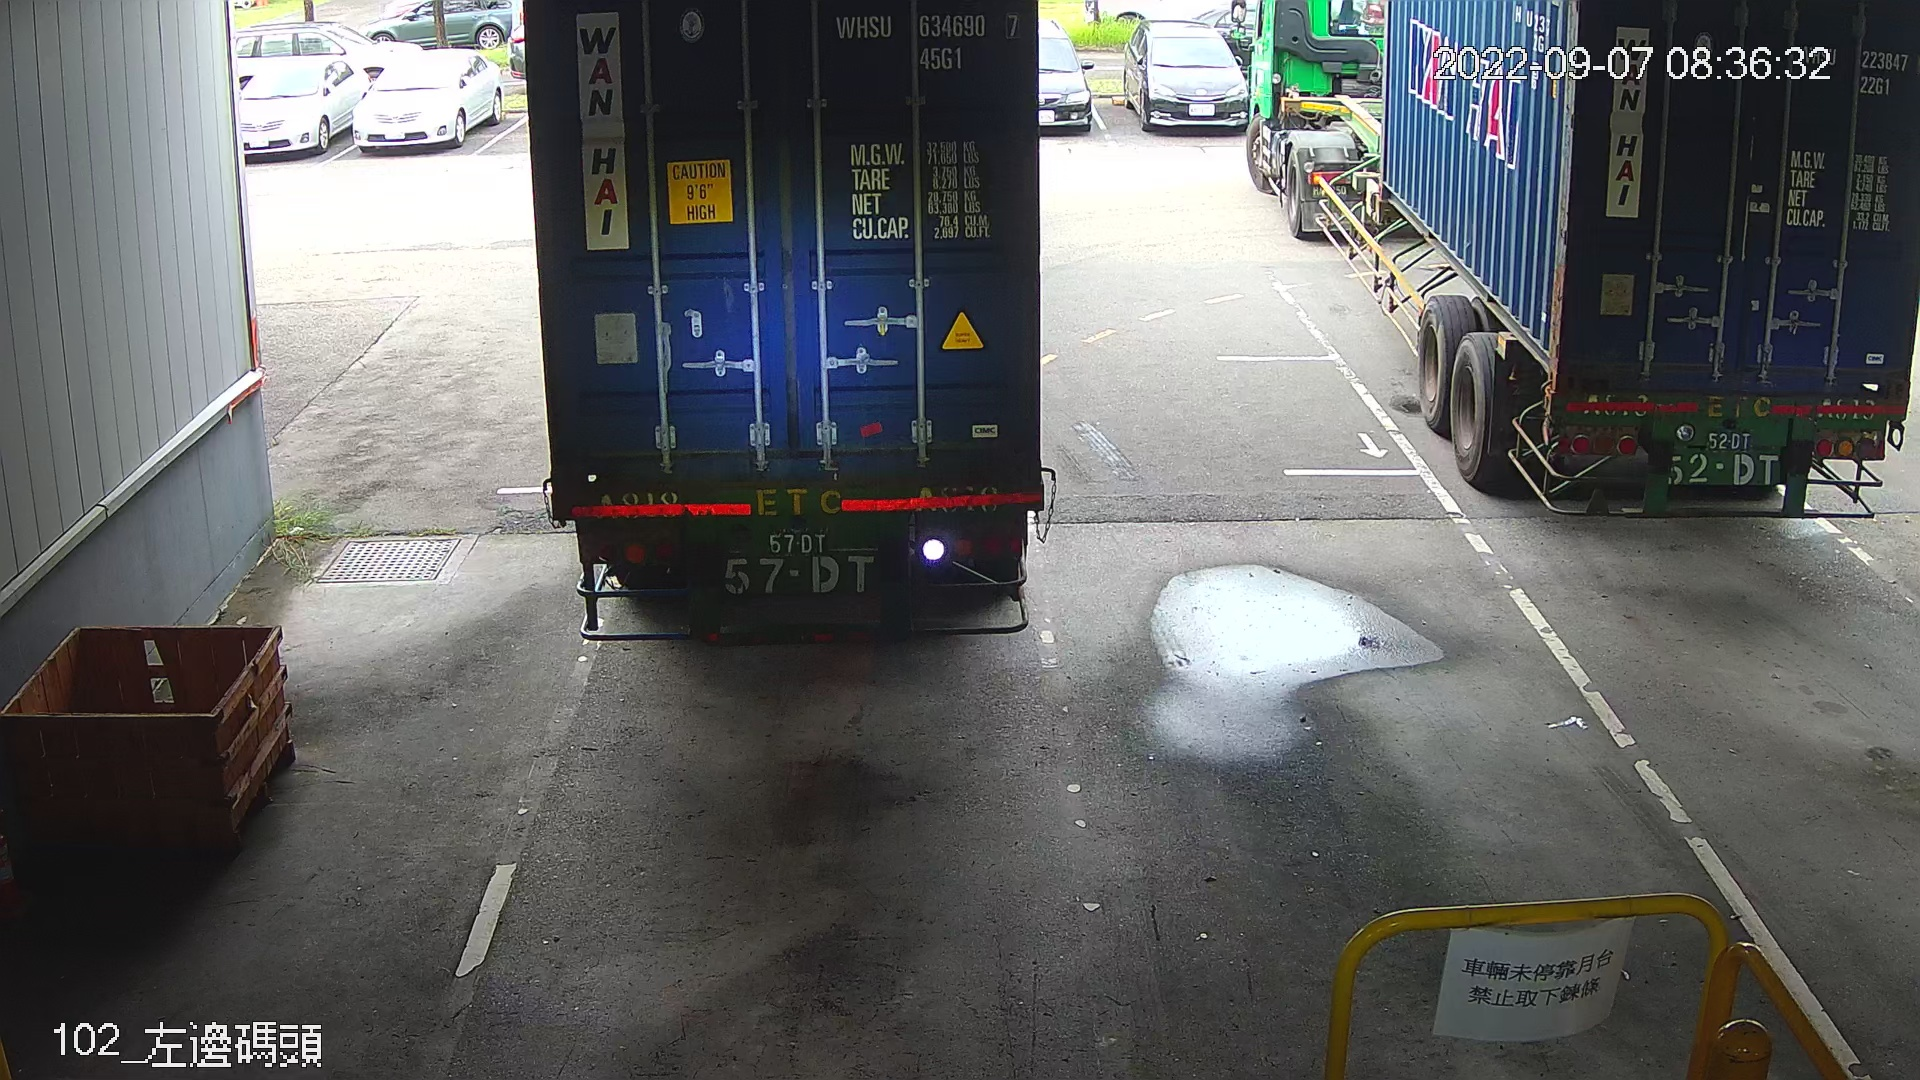container: (825, 7, 1033, 79)
